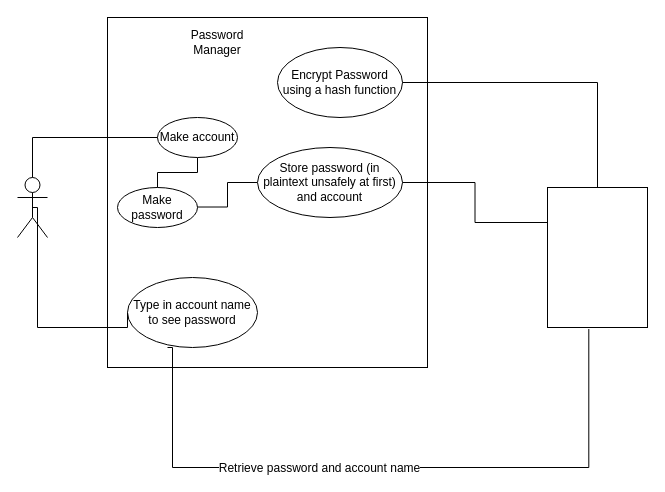
The diagram is 665 pixels wide and 492 high, and some of its shapes have lost their labels. The shapes that lost their labels are listed below. From the top down, each one's centre as x and y in pixels, then its label:
At (x=32, y=207): "User".
At (x=597, y=257): "Password database".
